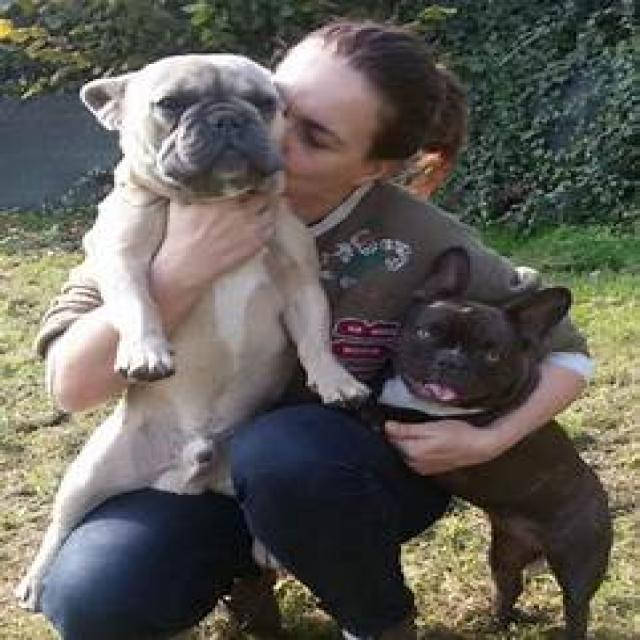KOPEK: (63, 52, 350, 534), (386, 243, 610, 640)
